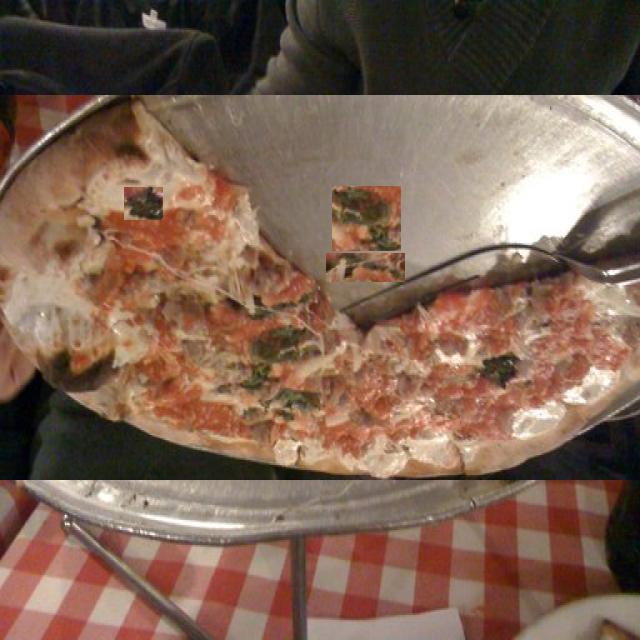basil: (332, 186, 401, 251), (326, 254, 405, 284), (320, 159, 382, 185), (124, 187, 163, 220)
pizza: (0, 95, 640, 480)
